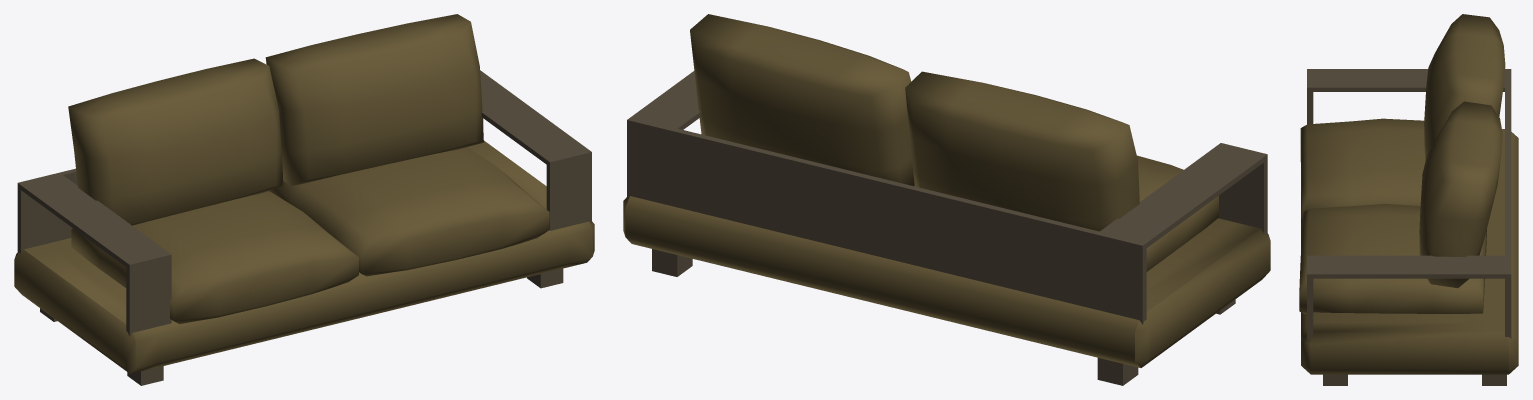
The model's file is Couch_Medium2.glb.
The picture shows the model from 3 angles, left to right: view 1: azimuth 30°, elevation 25°; view 2: azimuth 150°, elevation 25°; view 3: azimuth 270°, elevation 25°; orthographic projection. The views are drawn at different scales.
Parts seen in each view (by area): view 1: Couch_Medium2; view 2: Couch_Medium2; view 3: Couch_Medium2.
Part boxes in pixels (bbox=[...]): Couch_Medium2: bbox=[14, 14, 594, 385]; Couch_Medium2: bbox=[623, 14, 1270, 385]; Couch_Medium2: bbox=[1299, 14, 1518, 385].
Bounding box in the file's own units: 2.21 × 0.9581 × 0.9777.
2 materials, 2 textured.
